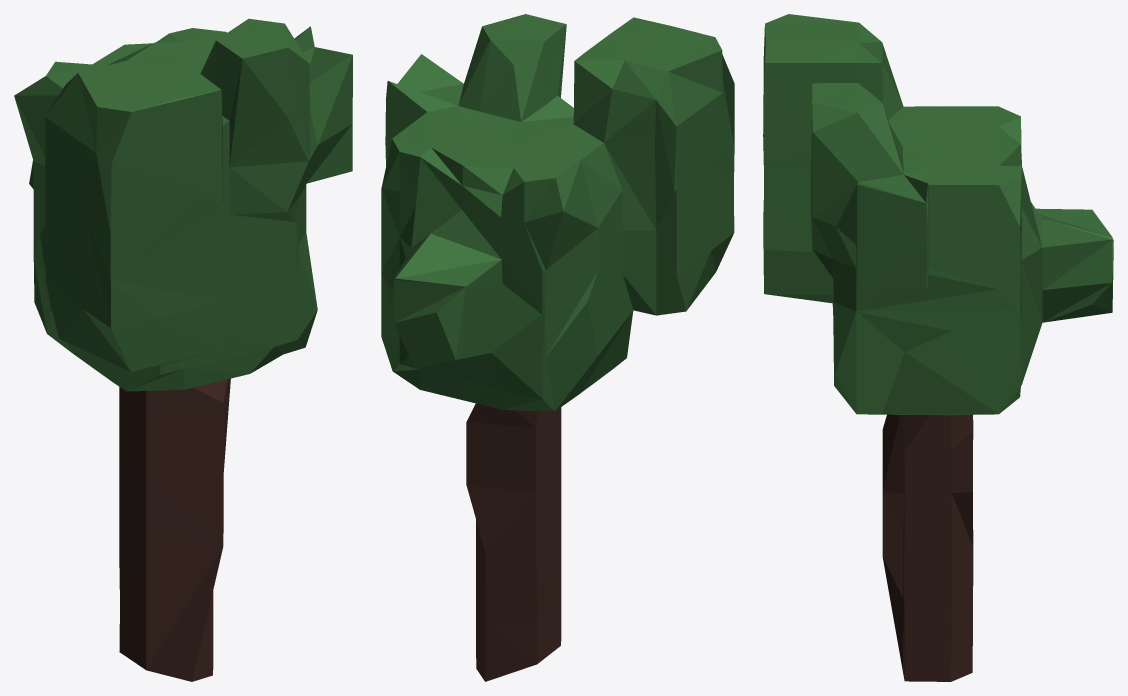
Rendered from forest-tree.glb.
3 views of the same model, side by side, from view 1: azimuth 30°, elevation 25°; view 2: azimuth 150°, elevation 25°; view 3: azimuth 270°, elevation 25° (orthographic). The views are drawn at different scales.
Size of the model in its own units: 0.4647 by 0.9947 by 0.5353.
